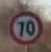limite 70: (8, 10, 42, 44)
